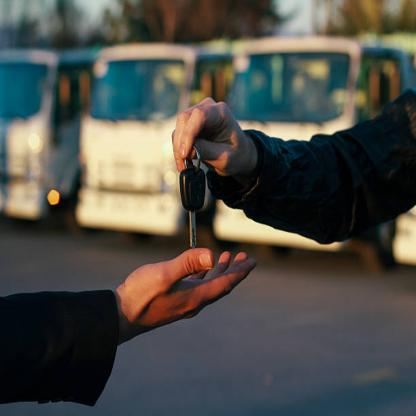keys: (174, 161, 207, 250)
